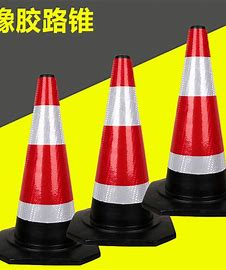traffic_cone: (81, 41, 175, 246), (2, 65, 95, 267), (144, 19, 226, 222)
